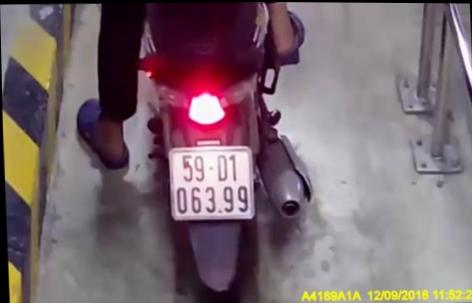LP: (169, 146, 253, 219)
